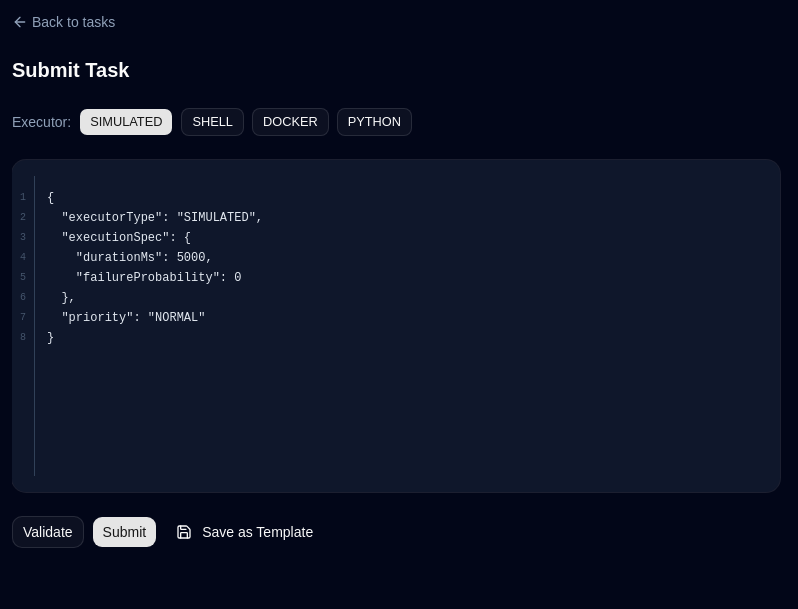
TaskSubmit › shows valid JSON message on validate
Step 1. Click the button "Validate" → (48, 532), box 12,516 -> 84,548
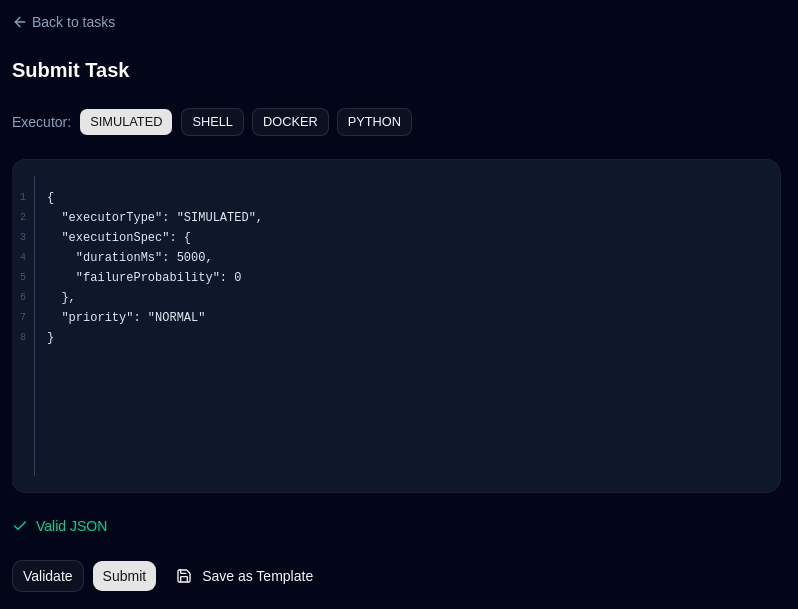
Result: the text "Valid JSON" is shown at 12,518 -> 107,534
